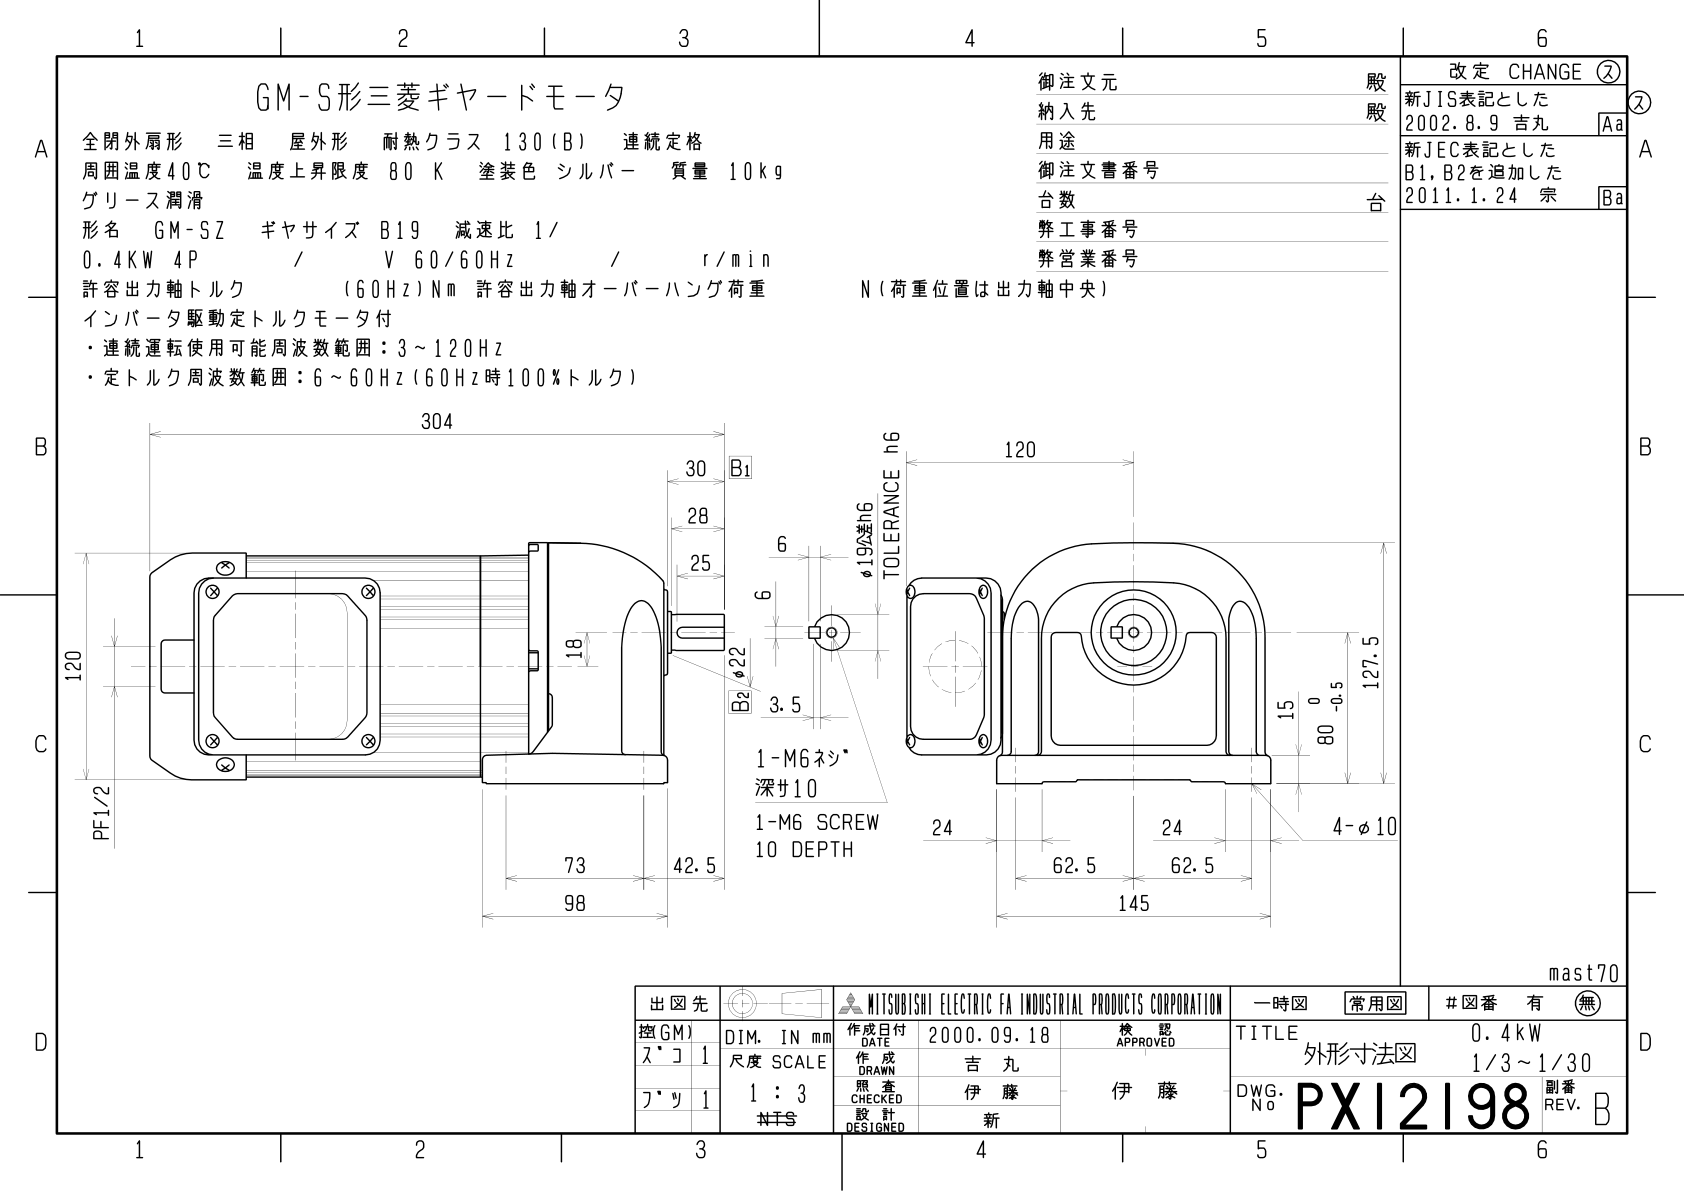GM_S_インバタ屋外＿三相_脚: (63, 403, 1399, 963)
